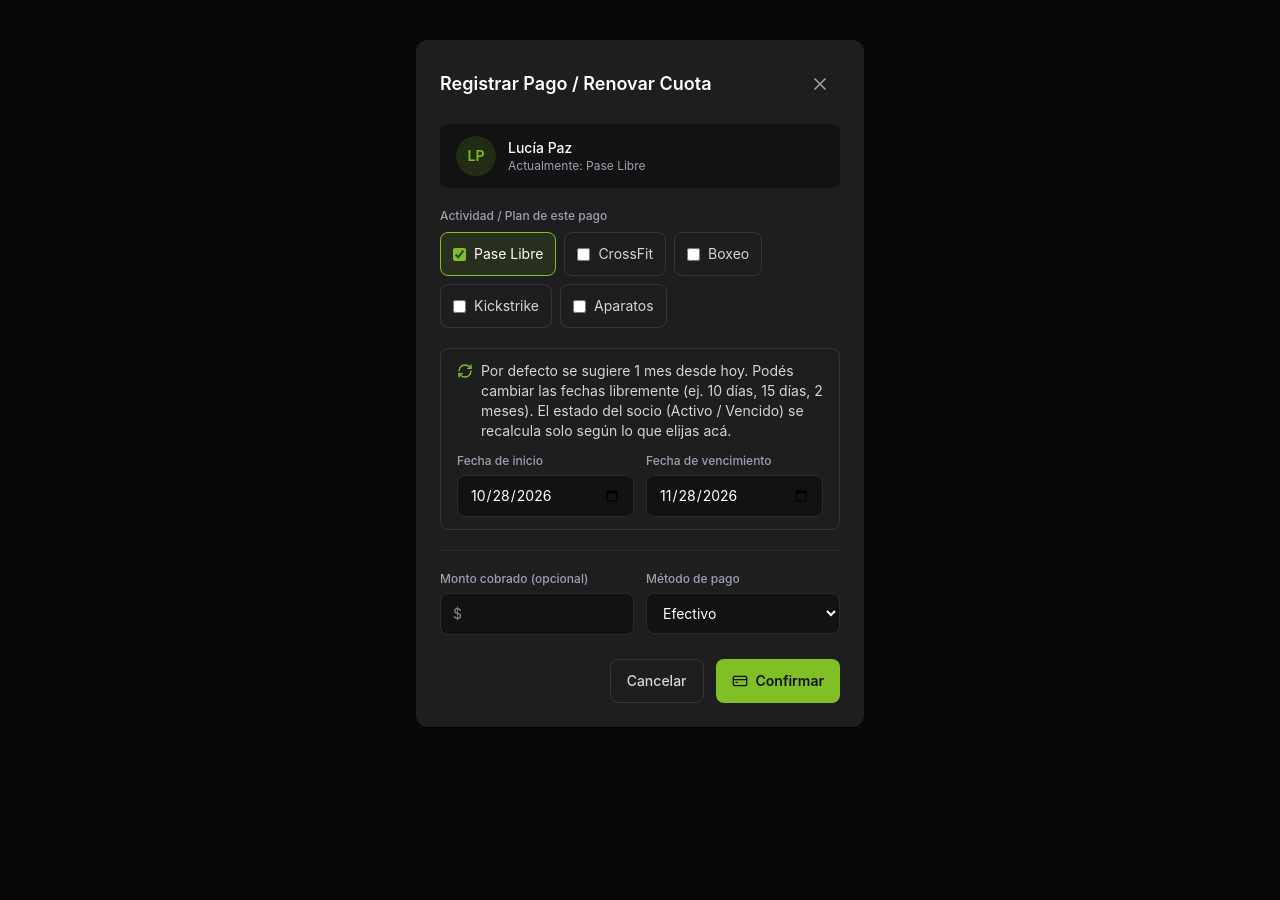
Test: RegistrarPagoModal -- fechas de inicio/vencimiento personalizables › bloquea la confirmación si la fecha de vencimiento es anterior a la de inicio
Step 1. Type "2026-08-15" into the date field labelled "Fecha de inicio" → (546, 496), box [457,475,634,517]
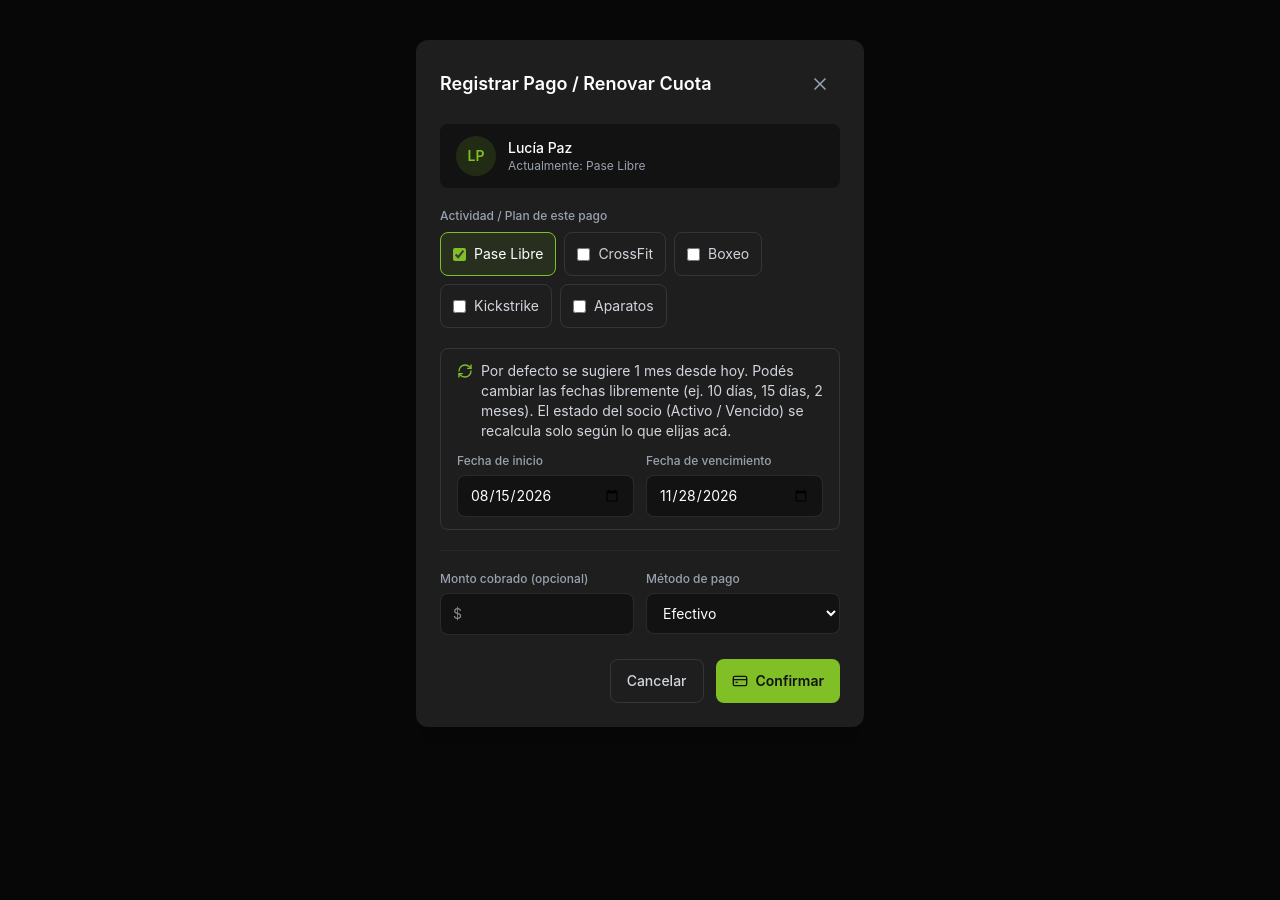
Step 2. Type "2026-08-05" into the date field labelled "Fecha de vencimiento" → (734, 496), box [646,475,823,517]
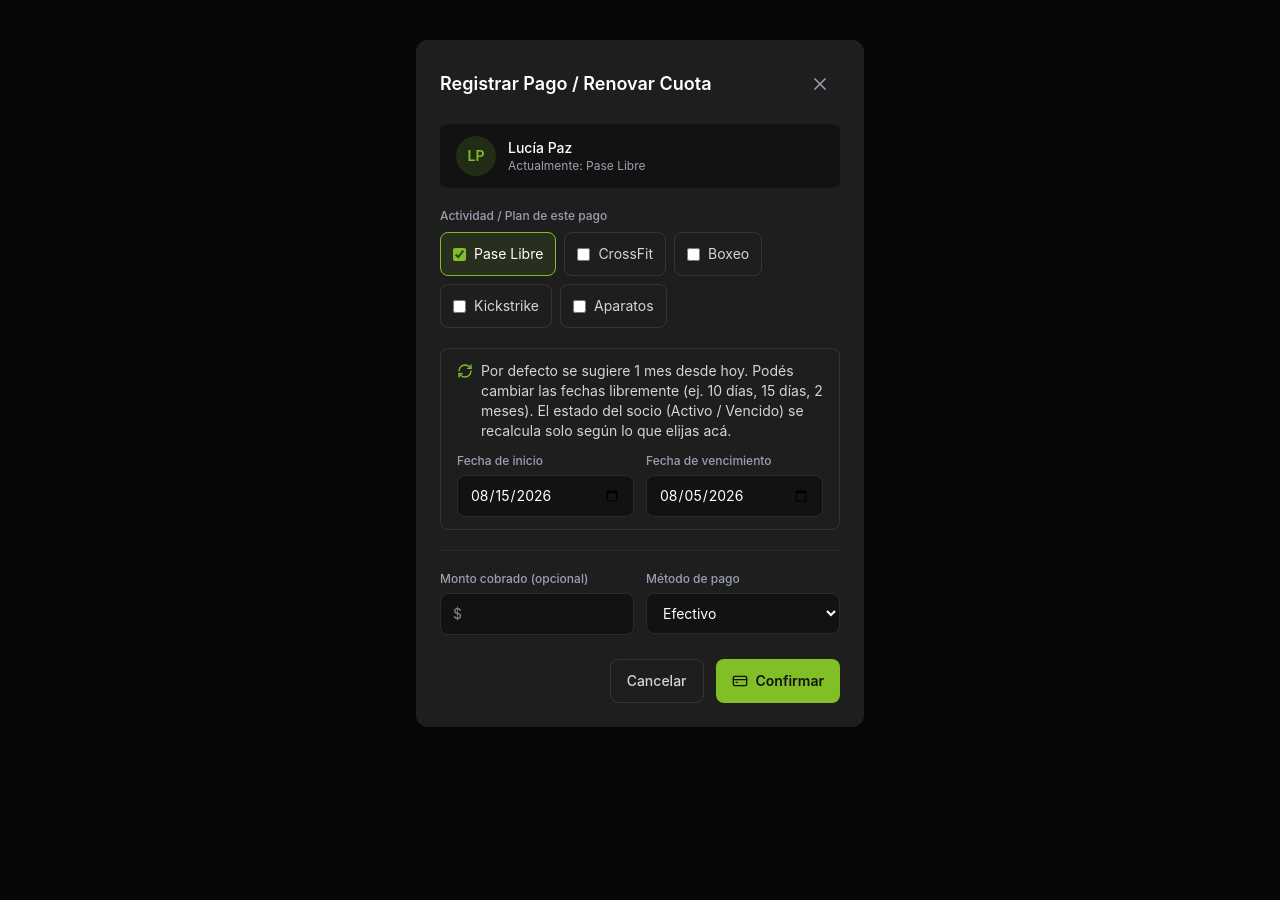
Step 3. Click the button "Confirmar" → click(778, 681), box [716,659,840,703]
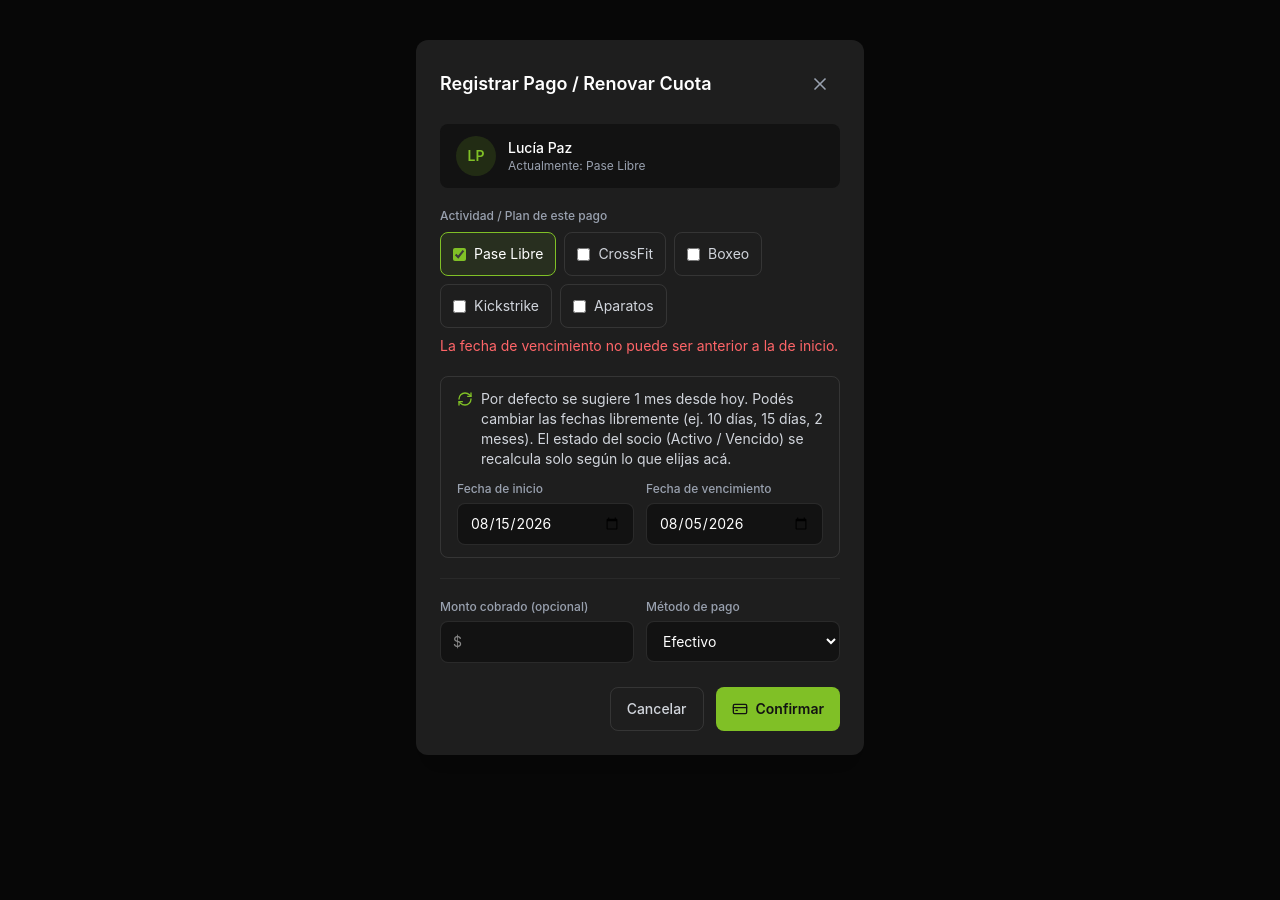
Expected: the text "La fecha de vencimiento no puede ser anterior a la de inicio." is shown, [440,336,840,356]
